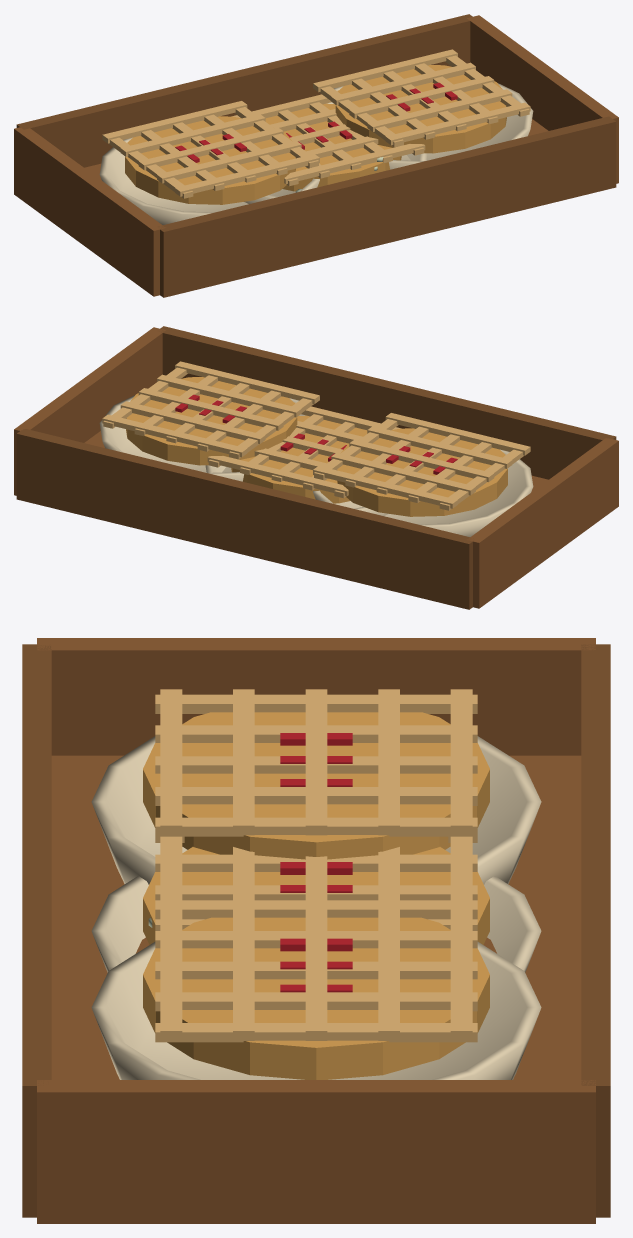
File: Pie_Fruit.fbx
The picture shows the model from 3 angles, top to bottom: view 1: azimuth 30°, elevation 25°; view 2: azimuth 150°, elevation 25°; view 3: azimuth 270°, elevation 25°; orthographic projection. The views are drawn at different scales.
Parts seen in each view (by area): view 1: Pie_Fruit__Stack, Pie_Fruit; view 2: Pie_Fruit__Stack, Pie_Fruit; view 3: Pie_Fruit__Stack, Pie_Fruit.
Boxes of the visible parts, left/top/right/bottom form: Pie_Fruit__Stack: left=14, top=14, right=618, bottom=297; Pie_Fruit: left=231, top=90, right=427, bottom=203; Pie_Fruit__Stack: left=14, top=326, right=618, bottom=609; Pie_Fruit: left=205, top=402, right=401, bottom=515; Pie_Fruit__Stack: left=22, top=638, right=610, bottom=1223; Pie_Fruit: left=91, top=836, right=541, bottom=972.
Size of the model in its own units: 0.296 by 0.0415 by 0.162.
